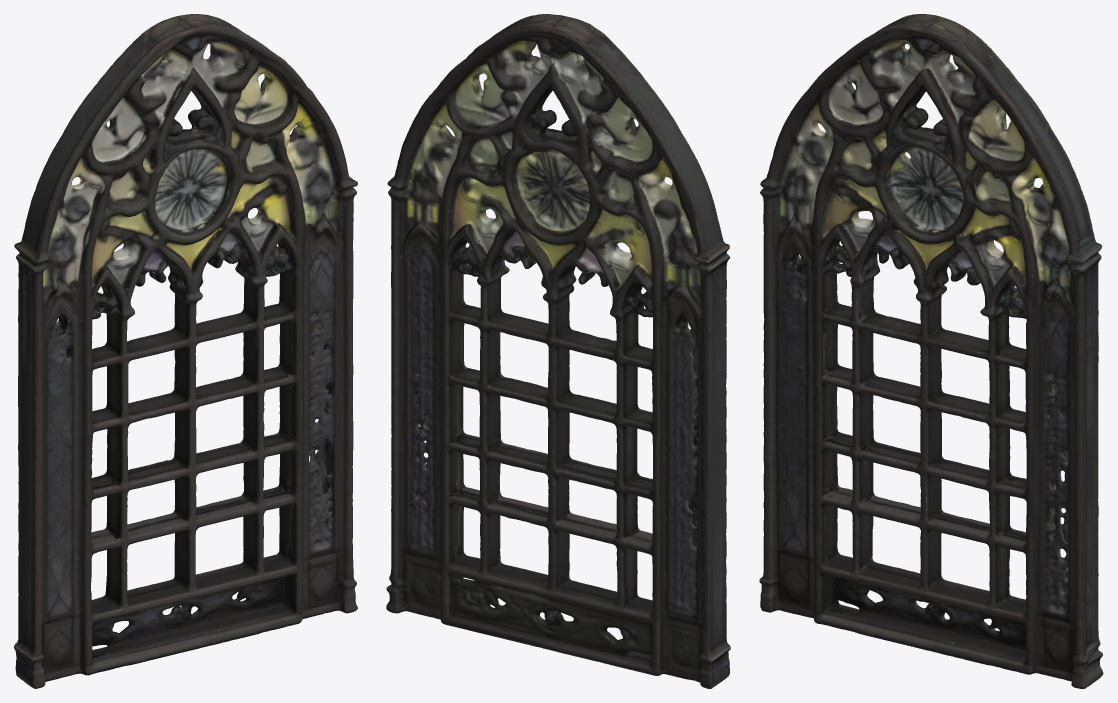
The picture shows the model from 3 angles, left to right: view 1: azimuth 30°, elevation 25°; view 2: azimuth 150°, elevation 25°; view 3: azimuth 330°, elevation 25°; orthographic projection.
Parts seen in each view (by area): view 1: Mesh_0; view 2: Mesh_0; view 3: Mesh_0.
Boxes of the visible parts, x1,y1,x2,y2 form: Mesh_0: (14,14,357,688); Mesh_0: (386,14,730,688); Mesh_0: (759,14,1103,688).
Bounding box in the file's own units: 111 × 202 × 14.16.
Materials: 1 (1 with a texture image).
